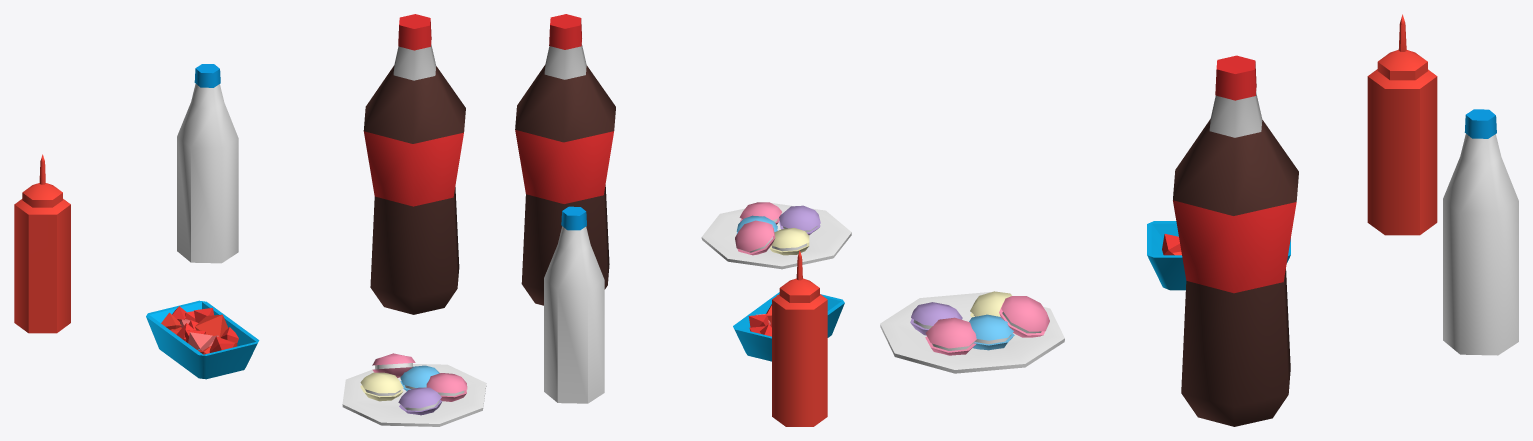
The model's file is COMIDA.obj.
3 renders of one model, left to right at view 1: azimuth 30°, elevation 25°; view 2: azimuth 150°, elevation 25°; view 3: azimuth 270°, elevation 25°, orthographic. The views are drawn at different scales.
Parts seen in each view (by area): view 1: dish_001; view 2: dish_001; view 3: dish_001.
Part boxes in pixels (x1=…): dish_001: x1=14, y1=14, x2=486, y2=426; dish_001: x1=515, y1=14, x2=851, y2=426; dish_001: x1=880, y1=14, x2=1518, y2=426.
Bounding box in the file's own units: 0.6358 × 0.4501 × 0.7576.
1 material, 1 textured.
